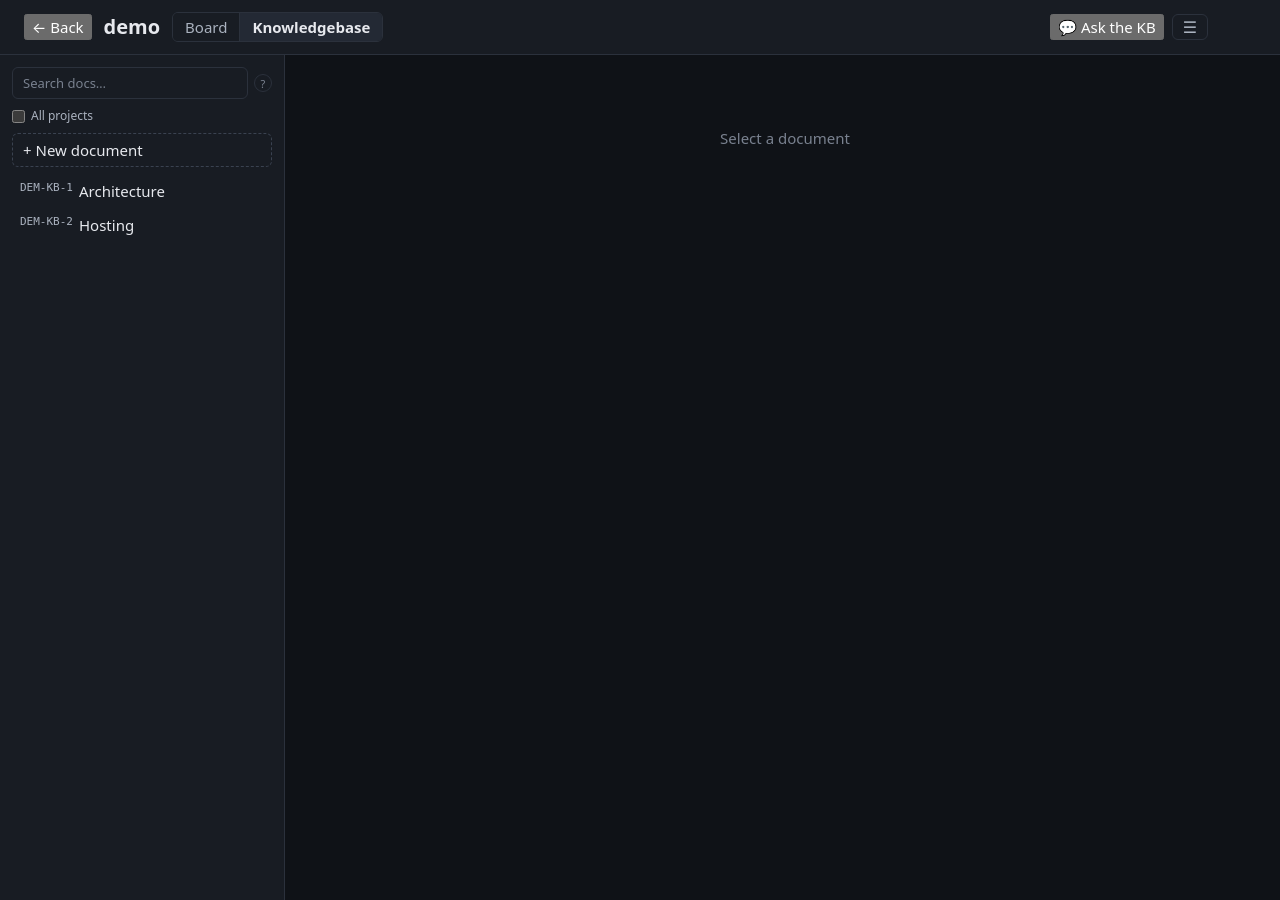
it: KnowledgeBase › the search "?" opens a help popover explaining the search
Expected: the text "Architecture" is shown, [79,181,165,201]
Click the button named "Search help".
click(263, 83)  # box [254,74,272,92]
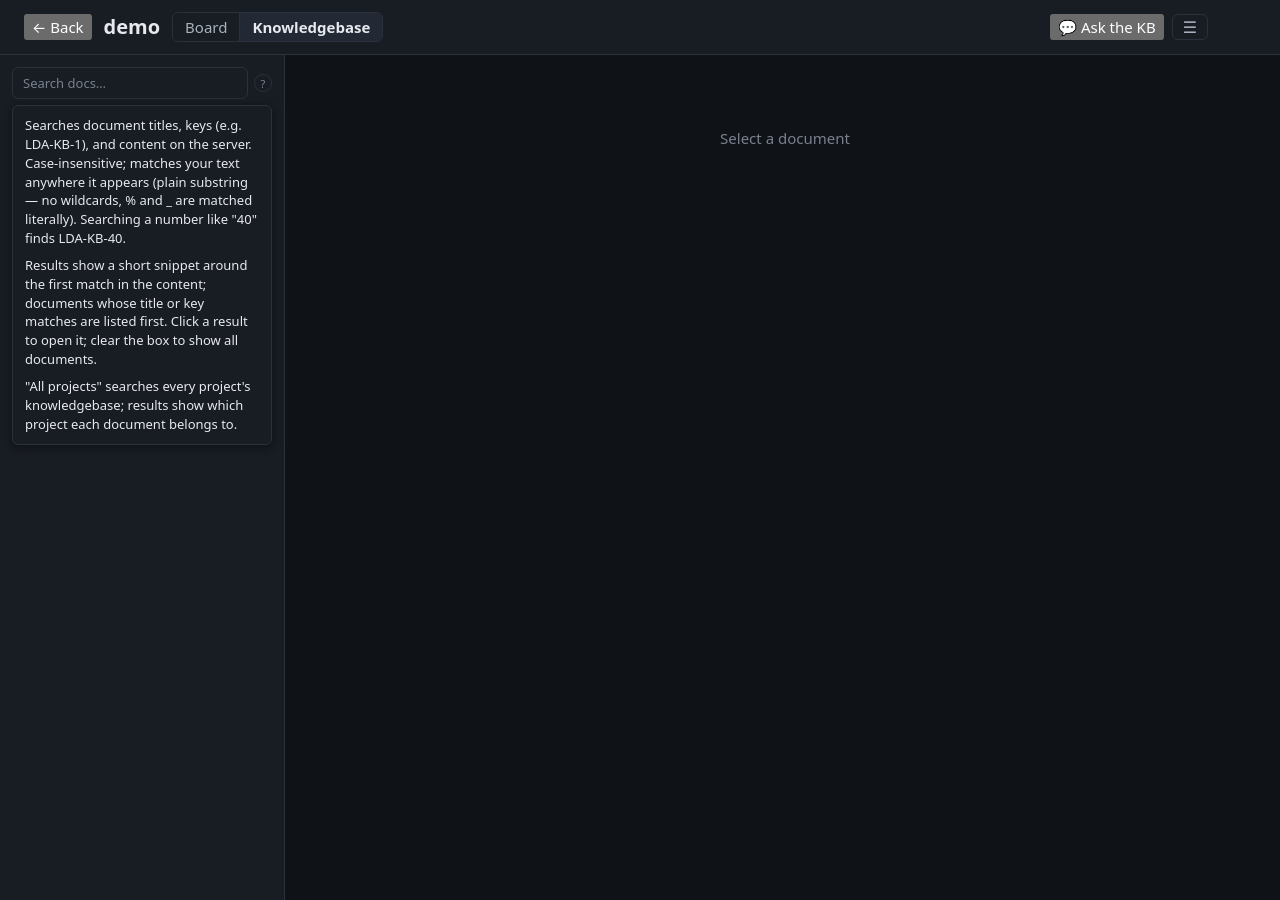
Result: the text "Searches document titles, keys" is shown at [25,116,257,247]
